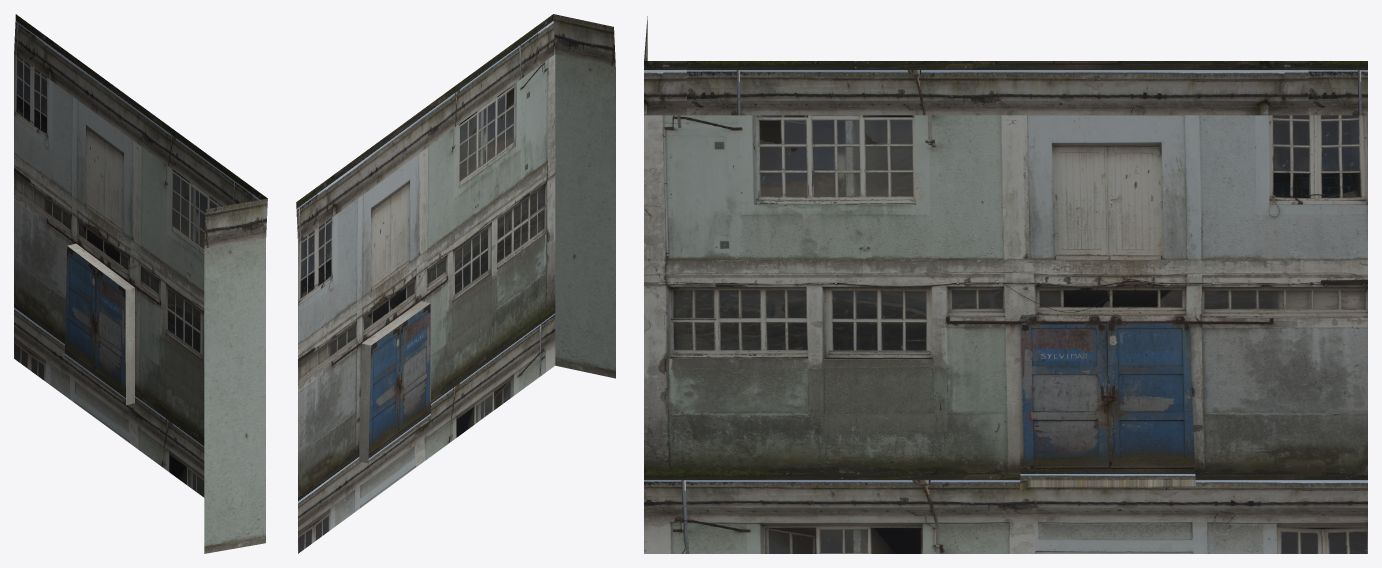
The model's file is FillerBuilding.fbx.
3 renders of one model, left to right at view 1: azimuth 30°, elevation 25°; view 2: azimuth 150°, elevation 25°; view 3: azimuth 270°, elevation 25°, orthographic. The views are drawn at different scales.
Parts seen in each view (by area): view 1: Cube.002; view 2: Cube.002; view 3: Cube.002.
Part boxes in pixels (x1,y1,x2,y2): Cube.002: [14, 14, 267, 553]; Cube.002: [296, 14, 615, 553]; Cube.002: [644, 16, 1367, 553].
Size of the model in its own units: 64.99 by 345 by 454.
